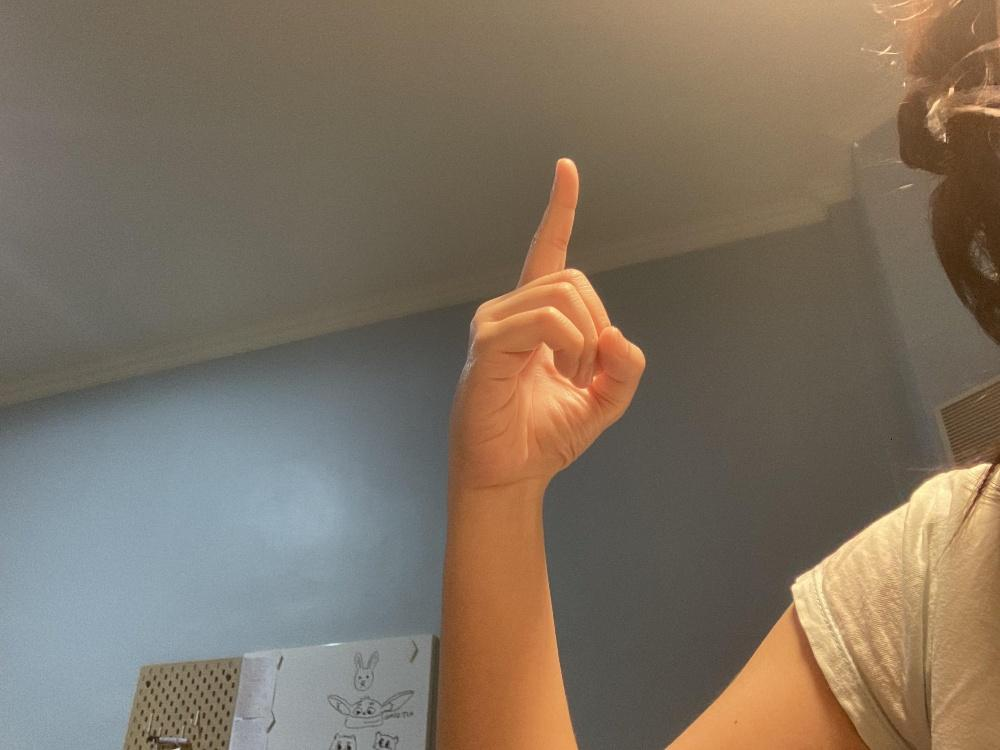d: (446, 156, 645, 487)
